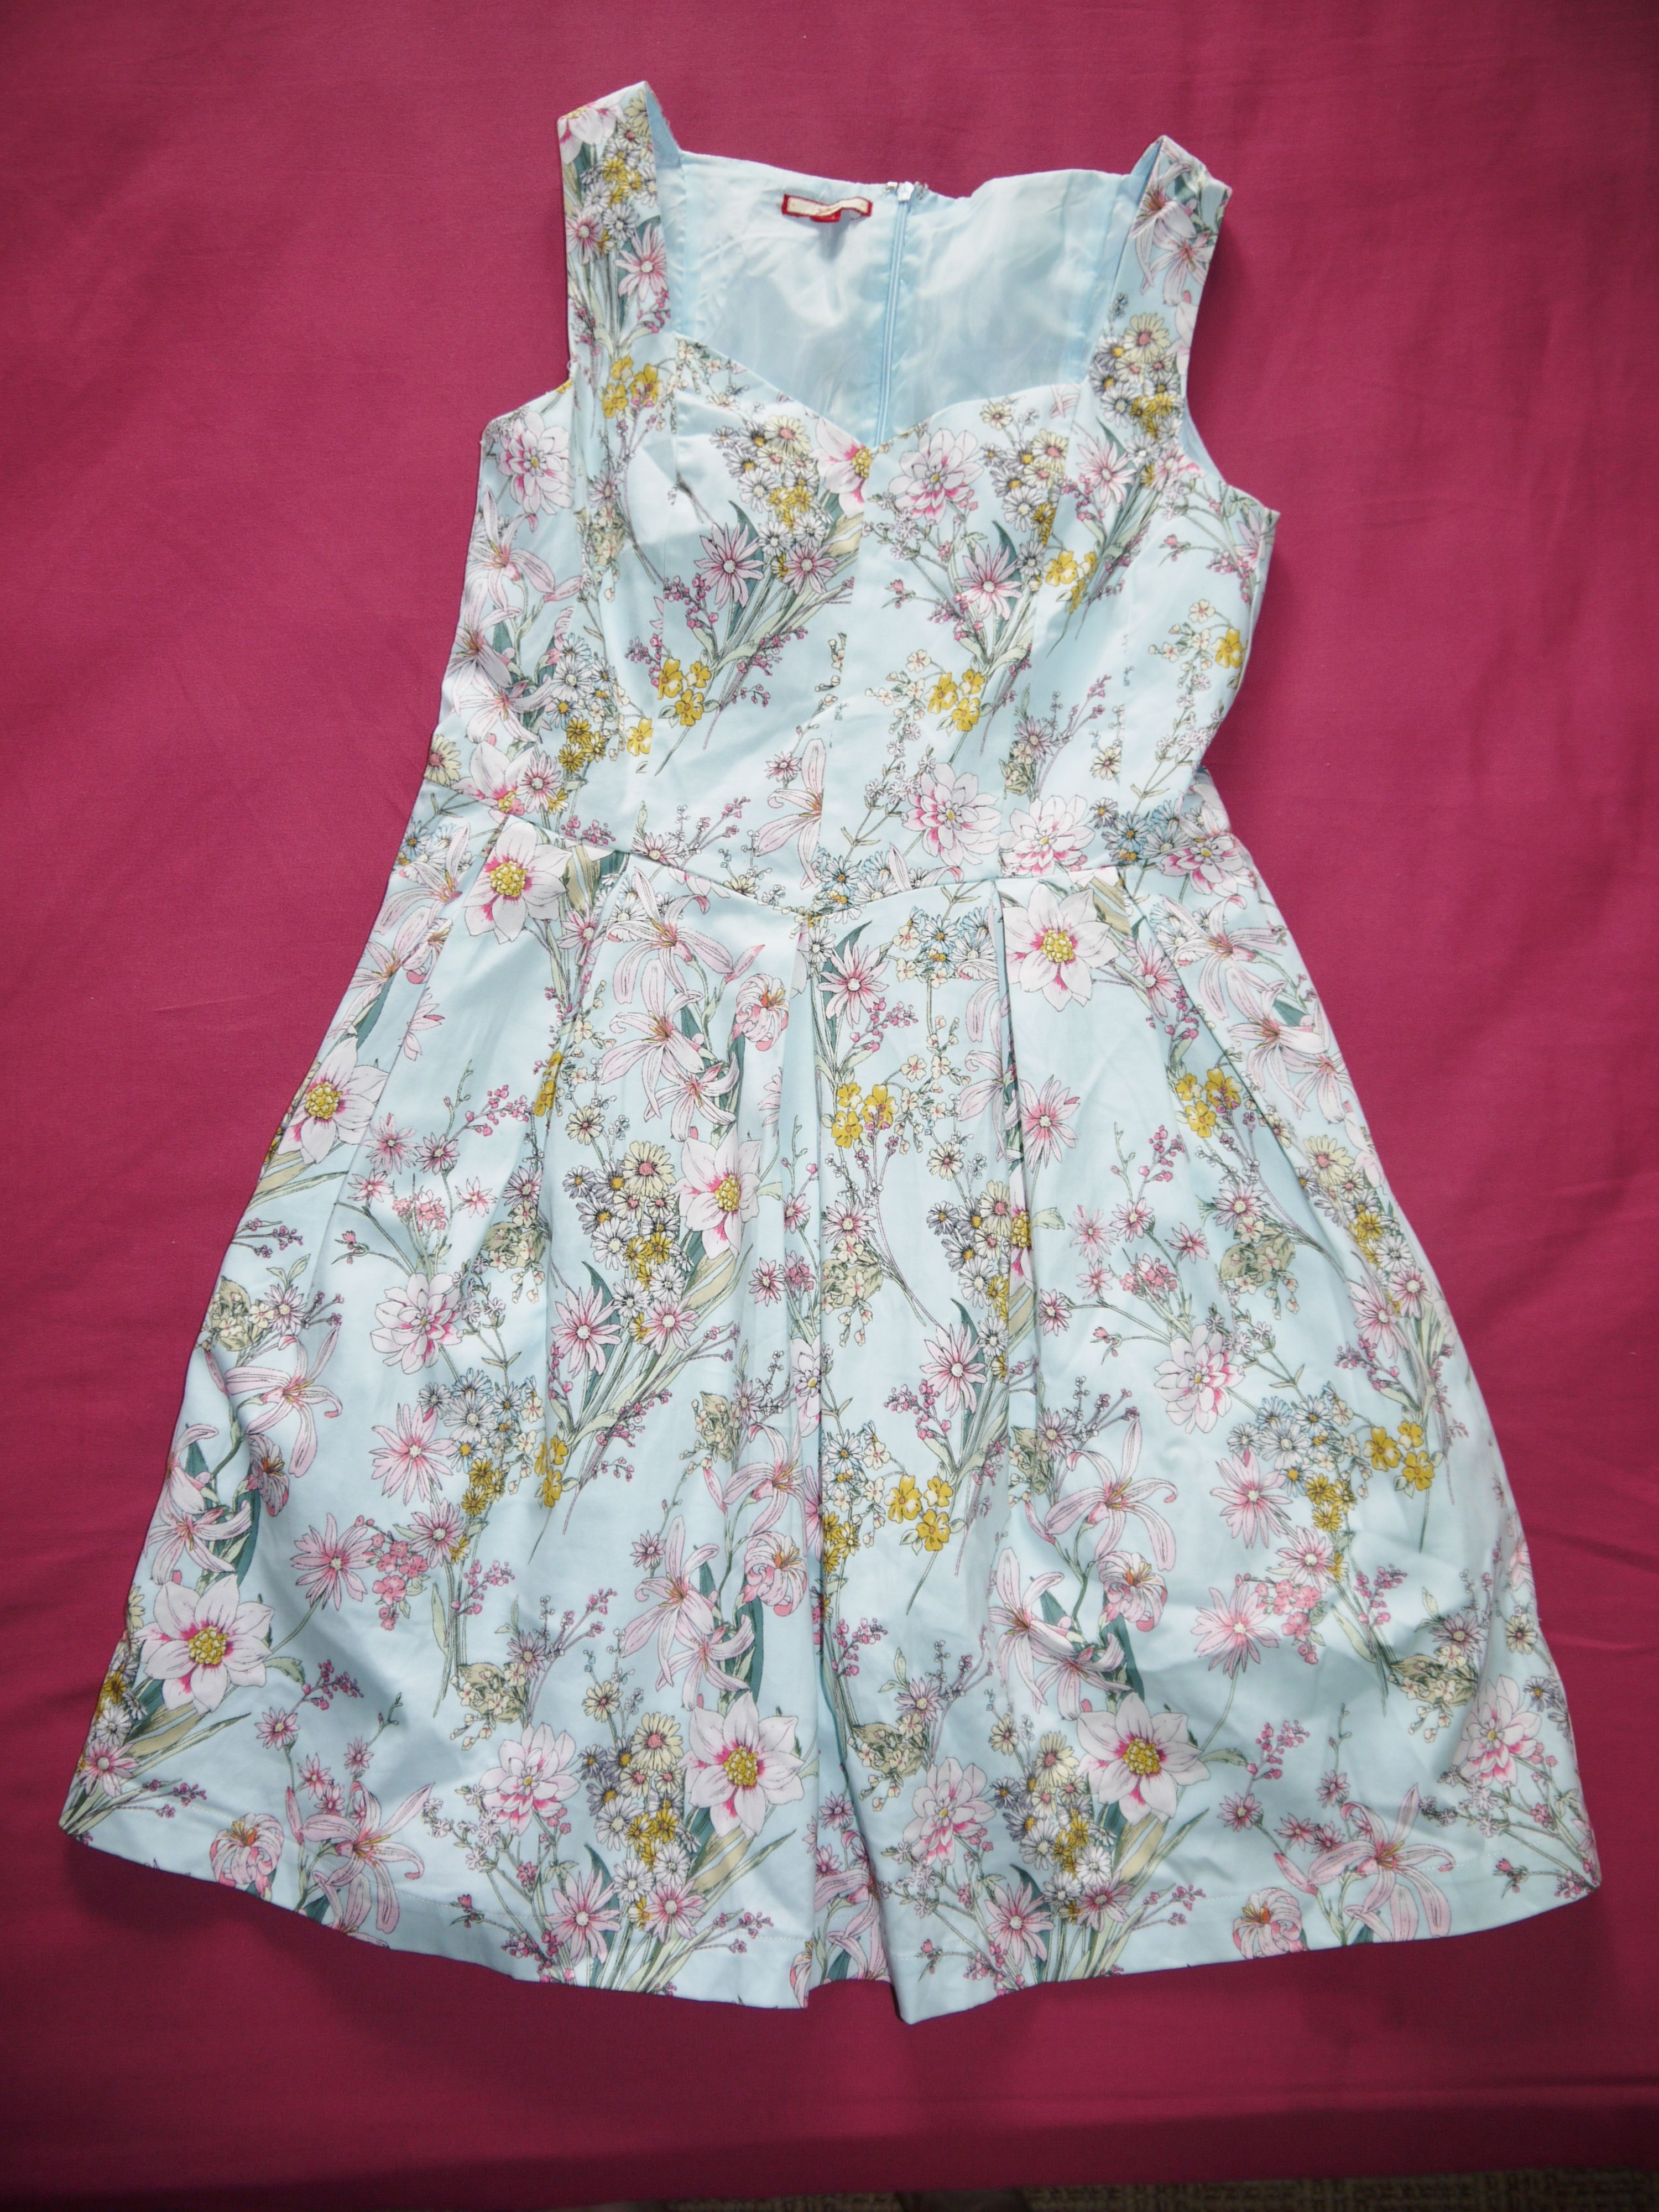clothes: (52, 63, 1586, 2048)
